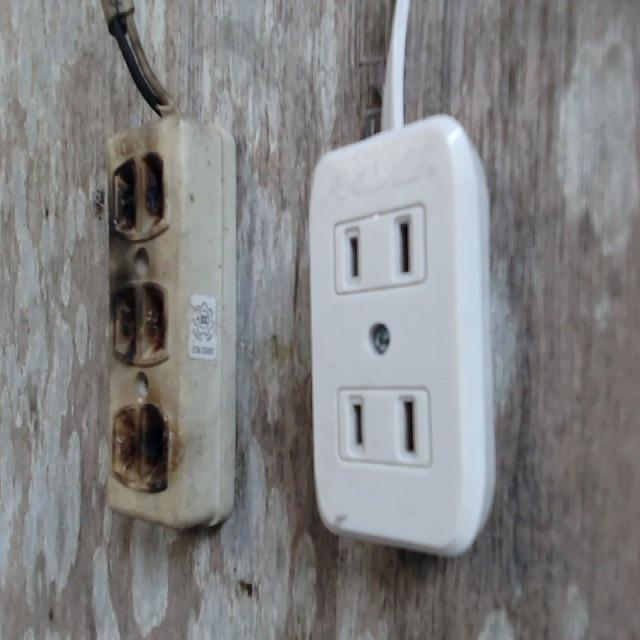-: (107, 146, 173, 498)
